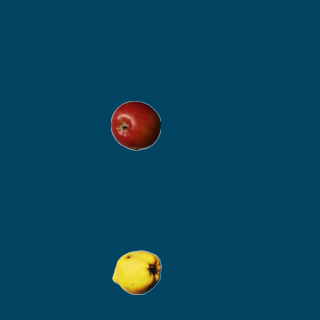Apple Braeburn: (110, 100, 160, 150)
Quince: (111, 247, 161, 297)
